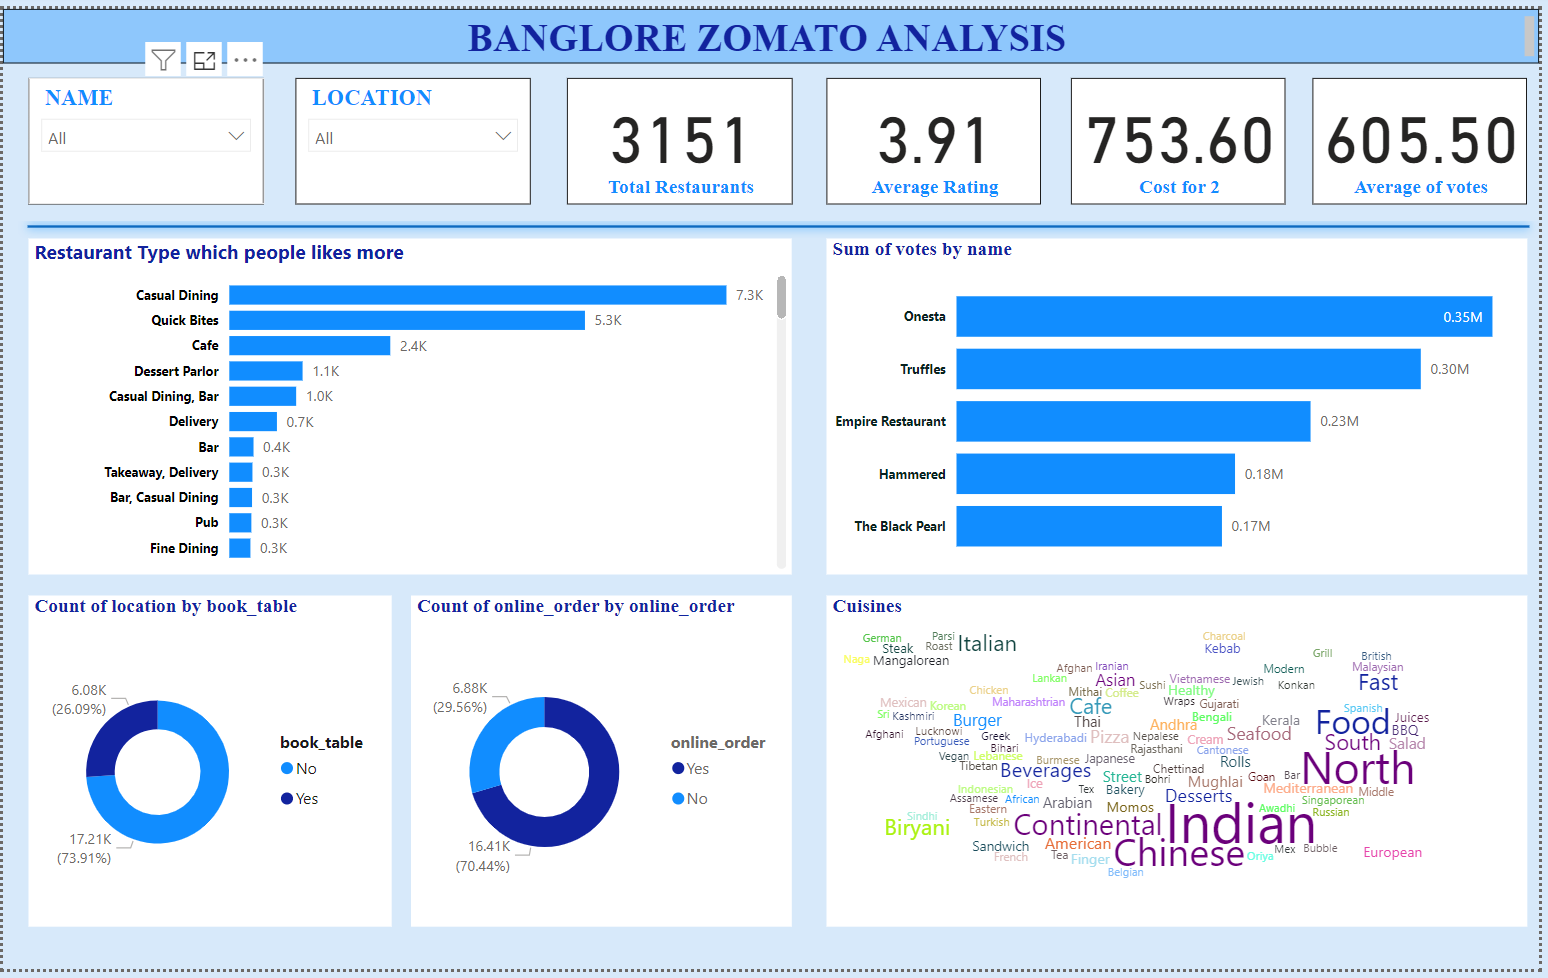

What the dashboard file says about the page in this screenshot:
{"tool":"powerbi","page":{"name":"Z1","canvas":[1280,800],"ordinal":0},"visuals":[{"type":"donutChart","fields":{"Category":["Sheet1.book_table"],"Y":["CountNonNull(Sheet1.location)"]},"box":[21.2,488.8,302.5,276.2],"z":0},{"type":"clusteredBarChart","fields":{"Category":["Sheet1.name"],"Y":["Sum(Sheet1.votes)"]},"box":[686.2,191.2,583.8,280],"z":1000},{"type":"textbox","box":[0,0,1280.2,45.2],"z":2000},{"type":"clusteredBarChart","title":"Restaurant Type which people likes more  ","fields":{"Category":["Sheet1.rest_type"],"Y":["CountNonNull(Sheet1.rest_type)"]},"box":[21.2,191.2,636.2,280],"z":3000},{"type":"card","fields":{"Values":["Count(Sheet1.name)"]},"box":[469.5,57.2,188,105.1],"z":4000},{"type":"card","fields":{"Values":["Avg(Sheet1.rate)"]},"box":[686.7,57.2,178.7,105.1],"z":5000},{"type":"slicer","fields":{"Values":["Sheet1.name"]},"box":[21,57.2,196.2,105.1],"z":6000},{"type":"slicer","fields":{"Values":["Sheet1.location"]},"box":[244.1,57.2,196.2,105.1],"z":7000},{"type":"WordCloud1447959067750","fields":{"Category":["Sheet1.cuisines"]},"box":[686.2,488.8,583.8,276.2],"z":8000},{"type":"donutChart","fields":{"Category":["Sheet1.online_order"],"Y":["CountNonNull(Sheet1.online_order)"]},"box":[340,488.8,317.5,276.2],"z":9000},{"type":"card","fields":{"Values":["Avg(Sheet1.approx_cost(for two people))"]},"box":[889.9,57.2,178.7,105.1],"z":10000},{"type":"card","fields":{"Values":["Avg(Sheet1.votes)"]},"box":[1090.8,57.2,178.7,105.1],"z":11000},{"type":"shape","box":[12.5,171.2,1267.5,20],"z":12000}]}

Visuals, with their boxes in screenshot pixels (x1, y1, x2, y2), scaled from the page's 1280x800 canvas onto the 1548x978 screenshot:
donutChart - Sheet1.book_table x CountNonNull(Sheet1.location): bbox=[26, 598, 391, 935]
clusteredBarChart - Sheet1.name x Sum(Sheet1.votes): bbox=[830, 234, 1536, 576]
textbox: bbox=[0, 0, 1547, 55]
"Restaurant Type which people likes more  " clusteredBarChart: bbox=[26, 234, 795, 576]
card - Count(Sheet1.name): bbox=[568, 70, 795, 198]
card - Avg(Sheet1.rate): bbox=[830, 70, 1047, 198]
slicer - Sheet1.name: bbox=[25, 70, 263, 198]
slicer - Sheet1.location: bbox=[295, 70, 532, 198]
WordCloud1447959067750 - Sheet1.cuisines: bbox=[830, 598, 1536, 935]
donutChart - Sheet1.online_order x CountNonNull(Sheet1.online_order): bbox=[411, 598, 795, 935]
card - Avg(Sheet1.approx_cost(for two people)): bbox=[1076, 70, 1292, 198]
card - Avg(Sheet1.votes): bbox=[1319, 70, 1535, 198]
shape: bbox=[15, 209, 1547, 234]
